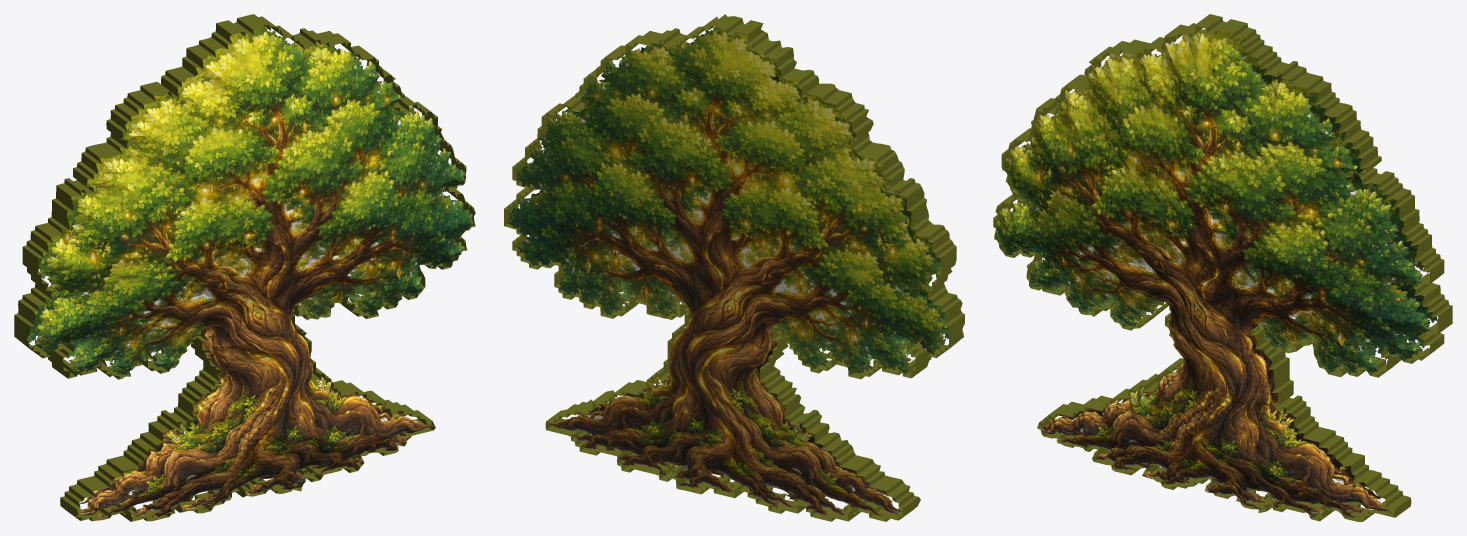
The model's file is tree.obj.
3 views of the same model, side by side, from view 1: azimuth 30°, elevation 25°; view 2: azimuth 150°, elevation 25°; view 3: azimuth 330°, elevation 25° (orthographic).
Visible parts, largest first — view 1: front_exact, solid_edges, back_exact; view 2: back_exact, solid_edges, front_exact; view 3: front_exact, solid_edges, back_exact.
Part boxes in pixels (x1,y1,x2,y2): front_exact: (35, 31, 473, 517); solid_edges: (14, 14, 475, 521); back_exact: (27, 25, 454, 504); back_exact: (507, 31, 944, 516); solid_edges: (504, 14, 964, 521); front_exact: (527, 27, 962, 503); front_exact: (995, 31, 1431, 517); solid_edges: (993, 14, 1452, 521); back_exact: (1017, 28, 1438, 499).
Bounding box in the file's own units: 3.81 × 3.86 × 0.5935.
2 materials, 1 textured.
